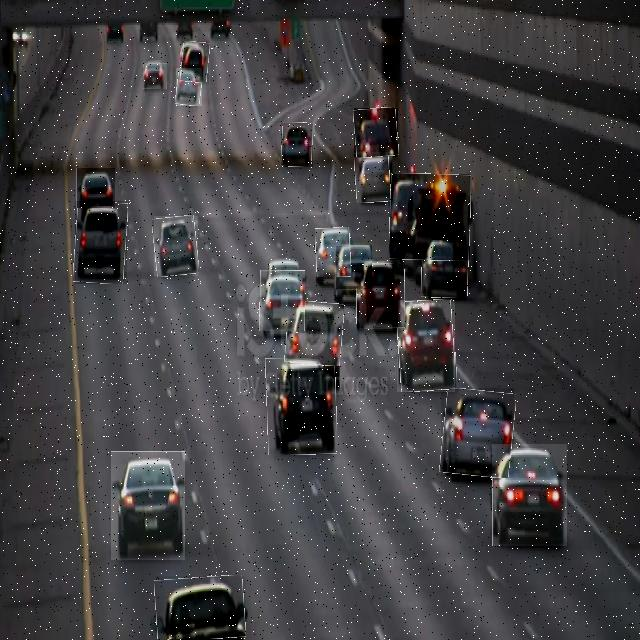Car: (111, 451, 185, 560), (492, 444, 567, 546), (266, 357, 337, 454), (441, 388, 514, 477), (155, 576, 245, 640), (398, 300, 456, 392), (75, 201, 127, 284), (286, 301, 343, 365), (357, 264, 405, 328), (422, 236, 468, 298), (260, 270, 305, 331), (154, 216, 198, 276), (354, 108, 398, 157), (315, 228, 351, 277), (356, 152, 390, 202), (76, 168, 115, 208), (337, 246, 372, 290), (281, 123, 313, 167), (181, 41, 209, 83), (176, 68, 202, 106), (143, 63, 167, 89)
Truck: (390, 174, 470, 260)
